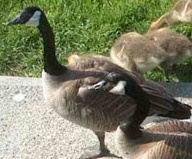goose: (3, 4, 190, 157)
